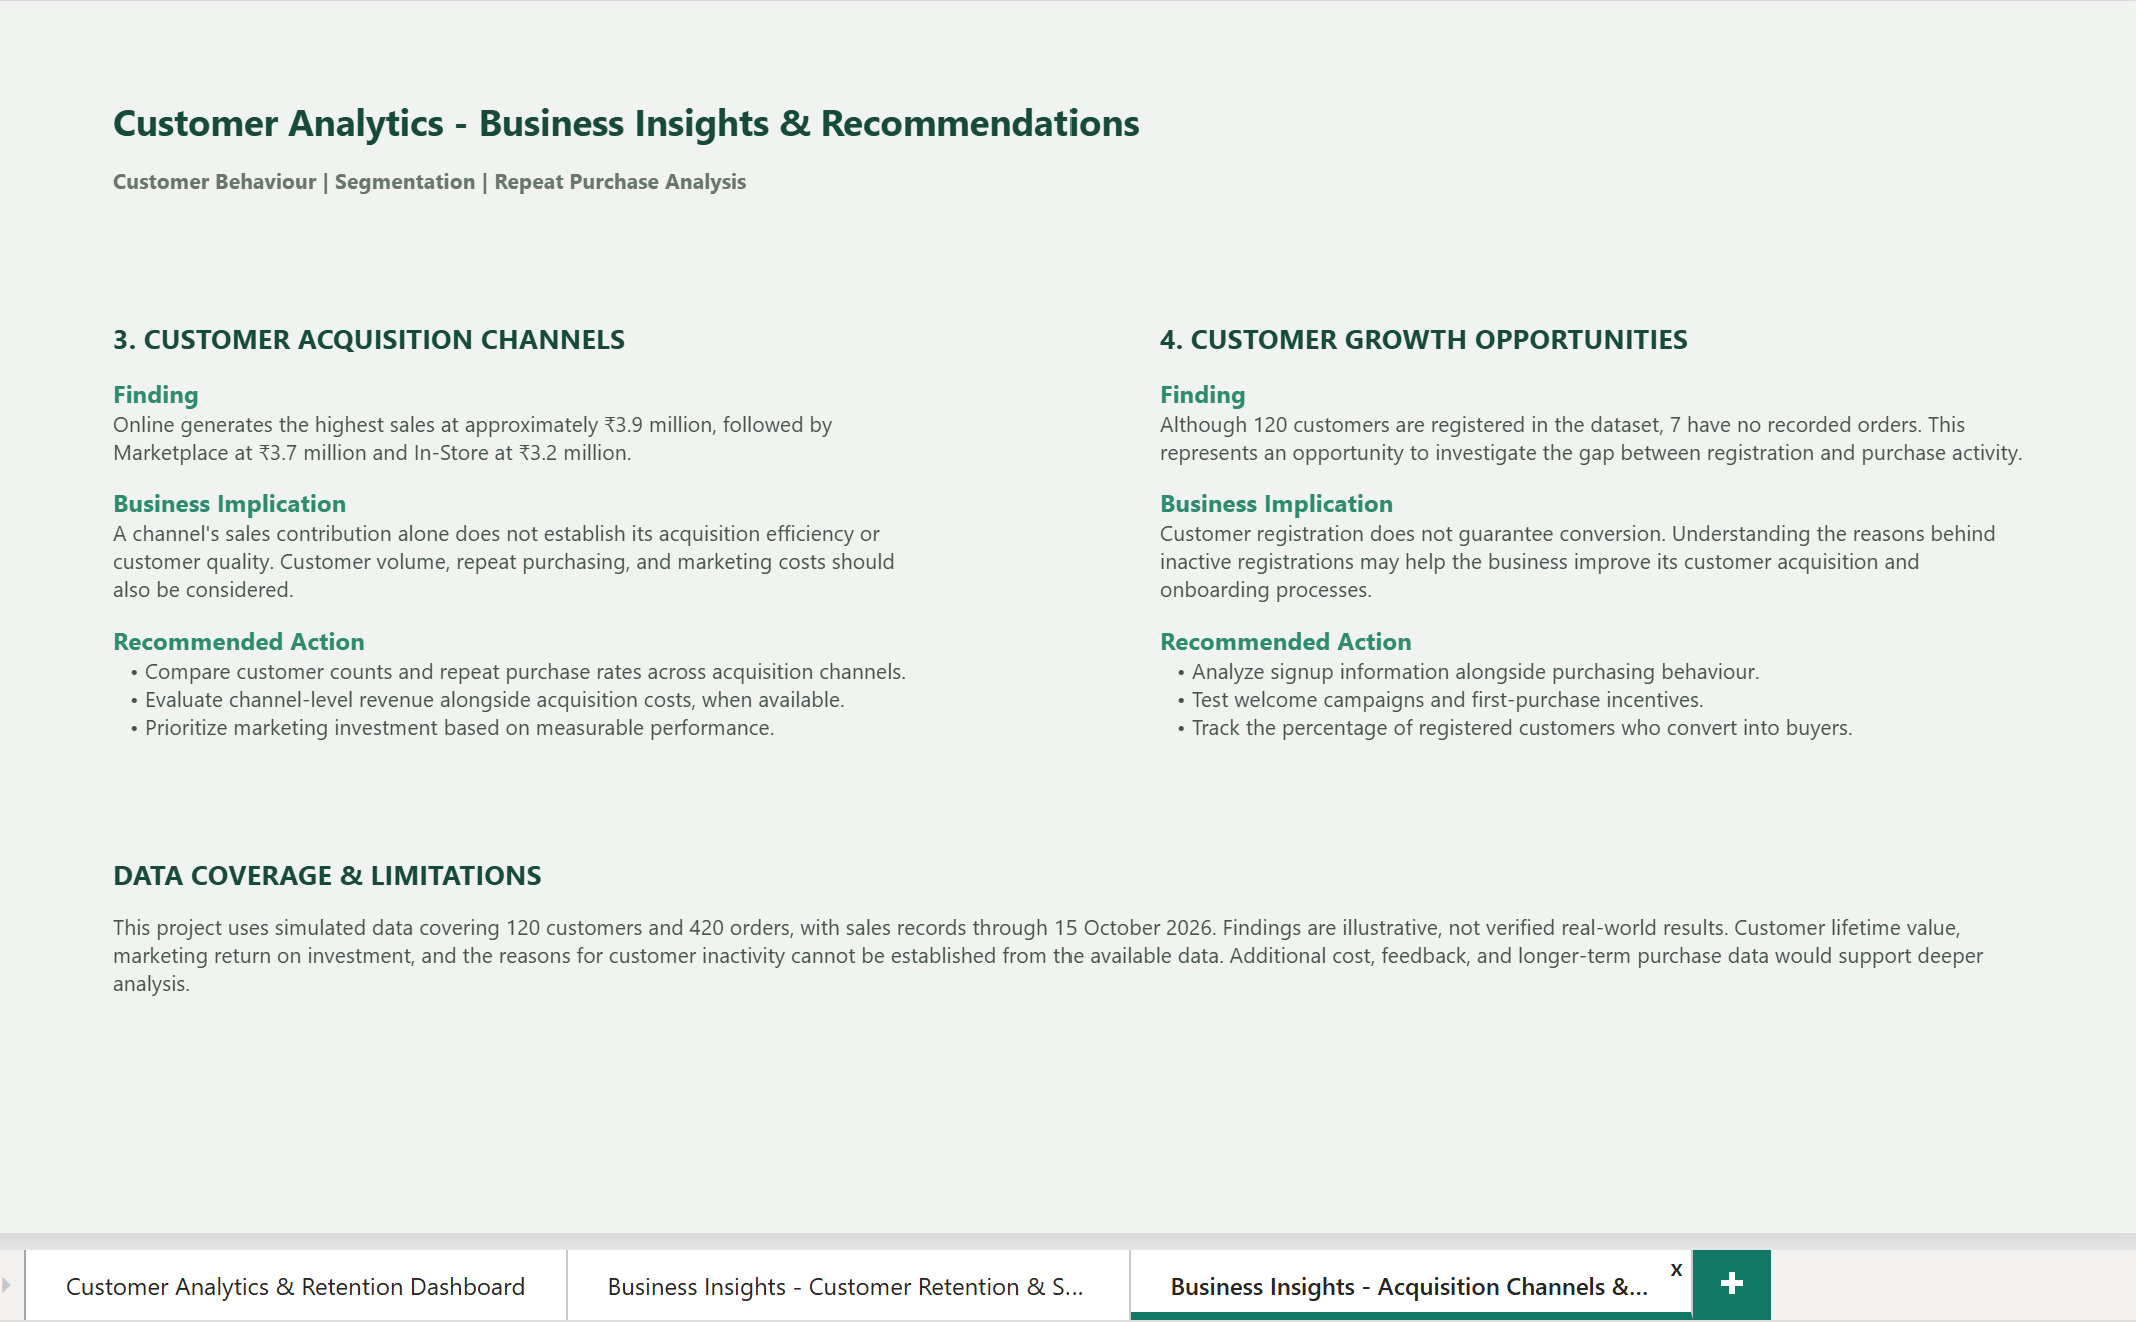

This screenshot's page, from the dashboard's own definition file:
{"tool":"powerbi","page":{"name":" Business Insights - Acquisition Channels & Growth Opportunities","canvas":[1920,1080],"ordinal":2},"visuals":[{"type":"textbox","box":[132.8,279.1,699.5,435.1],"z":2000},{"type":"textbox","box":[1051.6,279.7,762.5,435.9],"z":3000},{"type":"textbox","box":[132.8,749.2,1703.3,173.8],"z":4000},{"type":"textbox","box":[132.8,85.1,947.5,93.4],"z":5000}]}

Visuals, with their boxes on the page's 1920x1080 design canvas (x1, y1, x2, y2). These are canvas units, not pixel positions in the 2136x1322 screenshot, which may show the page scaled, cropped or inside an application window:
textbox: select_region(133, 279, 832, 714)
textbox: select_region(1052, 280, 1814, 716)
textbox: select_region(133, 749, 1836, 923)
textbox: select_region(133, 85, 1080, 178)
